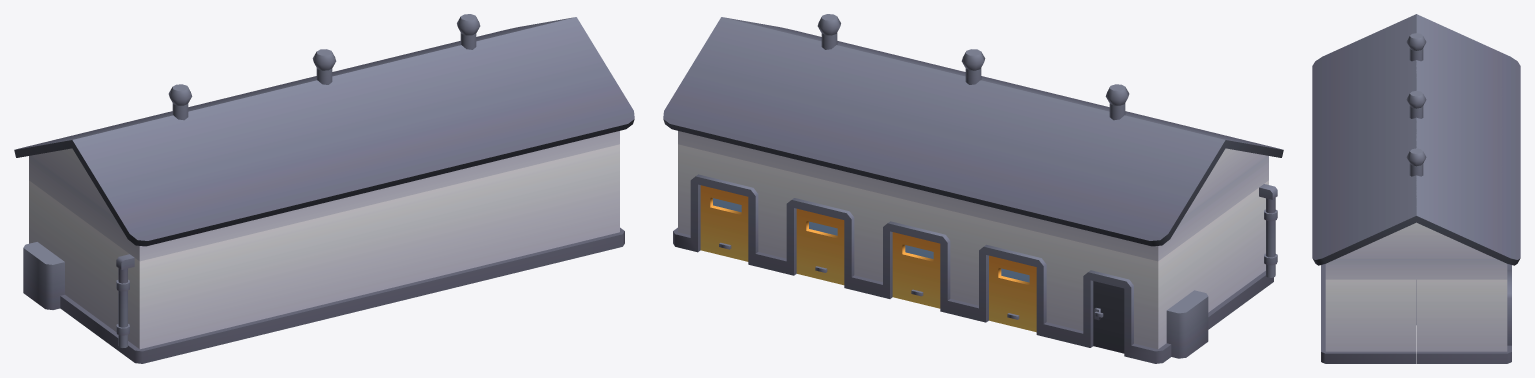
The model's file is building-s.glb.
The picture shows the model from 3 angles, left to right: view 1: azimuth 30°, elevation 25°; view 2: azimuth 150°, elevation 25°; view 3: azimuth 270°, elevation 25°; orthographic projection. The views are drawn at different scales.
Parts seen in each view (by area): view 1: building-s; view 2: building-s; view 3: building-s.
Part boxes in pixels (x1=…): building-s: x1=14, y1=14, x2=634, y2=363; building-s: x1=663, y1=14, x2=1283, y2=363; building-s: x1=1312, y1=14, x2=1520, y2=363.
Size of the model in its own units: 2.12 by 0.8368 by 0.9163.
Materials: 1 (1 with a texture image).
